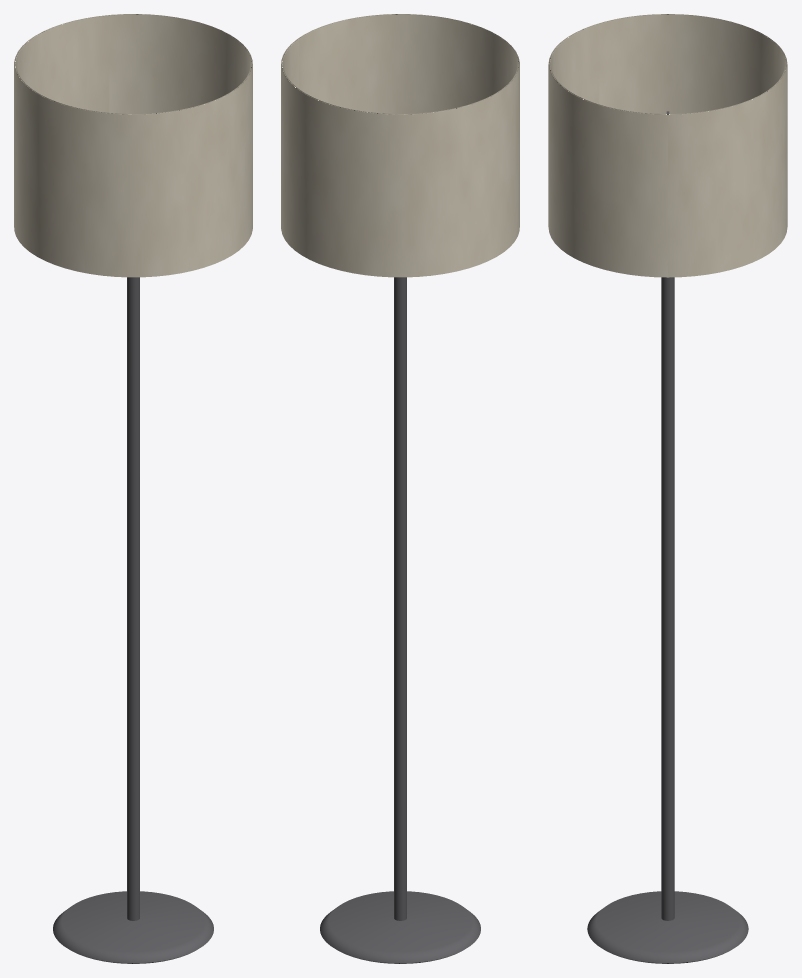
3 renders of one model, left to right at view 1: azimuth 30°, elevation 25°; view 2: azimuth 150°, elevation 25°; view 3: azimuth 270°, elevation 25°, orthographic.
Parts seen in each view (by area): view 1: Floor lamp; view 2: Floor lamp; view 3: Floor lamp.
Part boxes in pixels (x1,y1,x2,y2): Floor lamp: [14, 14, 252, 963]; Floor lamp: [281, 14, 519, 963]; Floor lamp: [548, 14, 787, 963].
Bounding box in the file's own units: 0.4 × 1.6 × 0.4.
2 materials, 1 textured.
